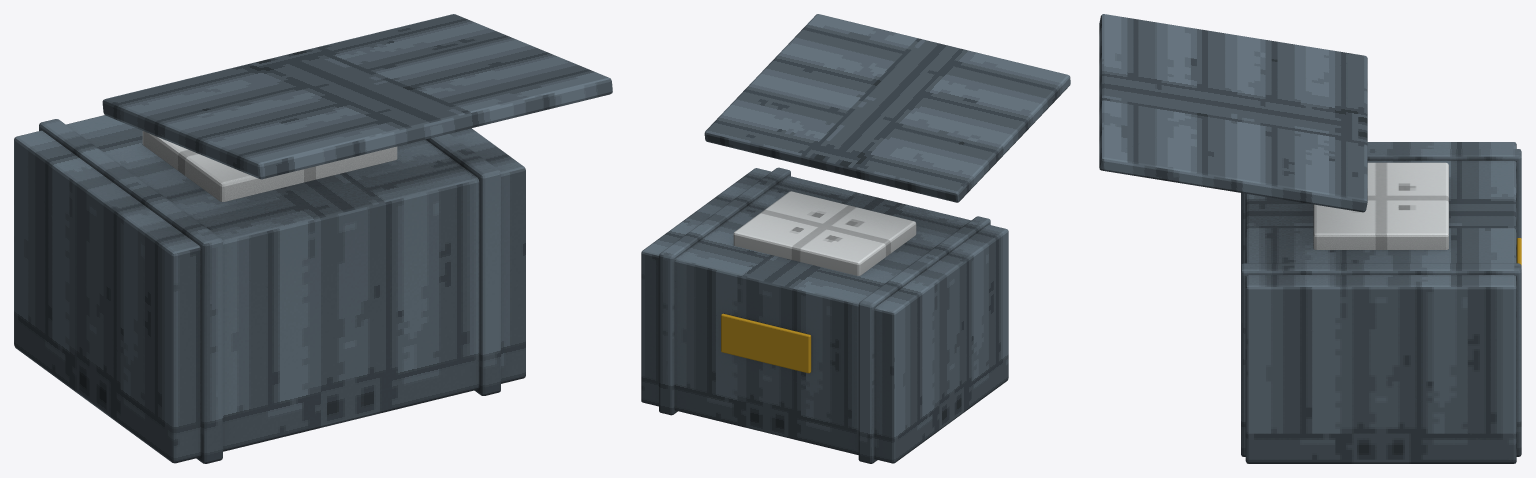
The model's file is base_crate_medium_open.glb.
3 renders of one model, left to right at view 1: azimuth 30°, elevation 25°; view 2: azimuth 150°, elevation 25°; view 3: azimuth 270°, elevation 25°, orthographic. The views are drawn at different scales.
Parts seen in each view (by area): view 1: base_crate_medium_open.001; view 2: base_crate_medium_open.001; view 3: base_crate_medium_open.001.
Part boxes in pixels (x1,y1,x2,y2): base_crate_medium_open.001: [14, 14, 612, 463]; base_crate_medium_open.001: [641, 14, 1070, 463]; base_crate_medium_open.001: [1099, 14, 1521, 463].
Bounding box in the file's own units: 1.4 × 1.39 × 1.71.
5 materials, 5 textured.
